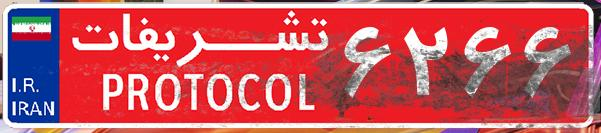2: (400, 20, 460, 115)
6: (340, 20, 400, 115), (460, 20, 520, 115), (520, 20, 580, 115)
تشریفات: (60, 8, 340, 125)
